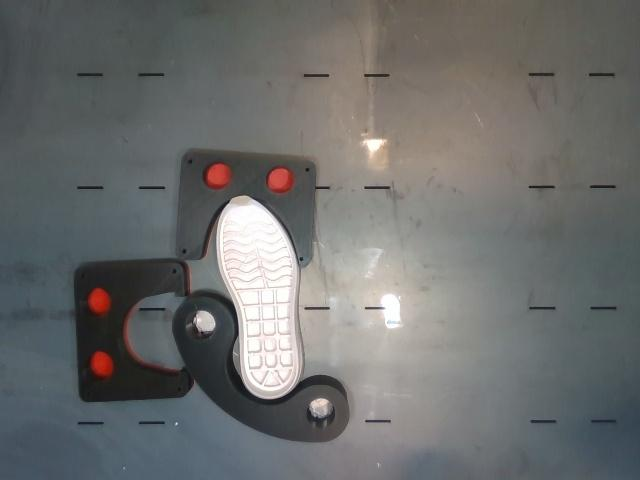shoes: (218, 196, 299, 399)
